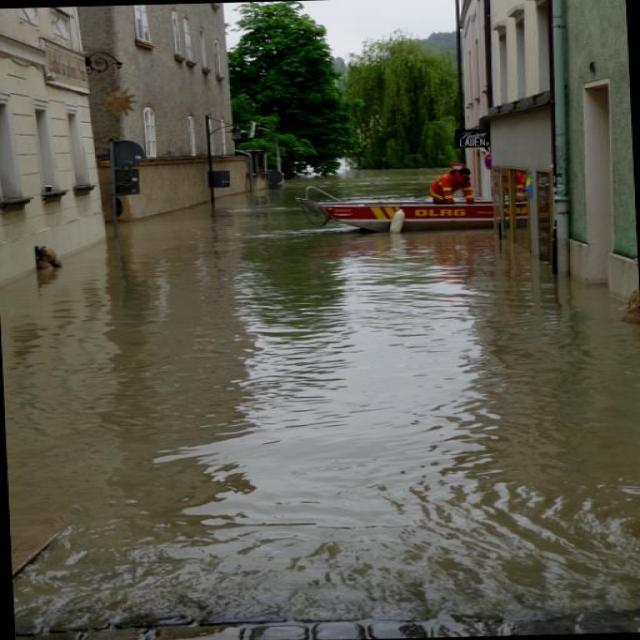flood: (0, 162, 639, 623)
